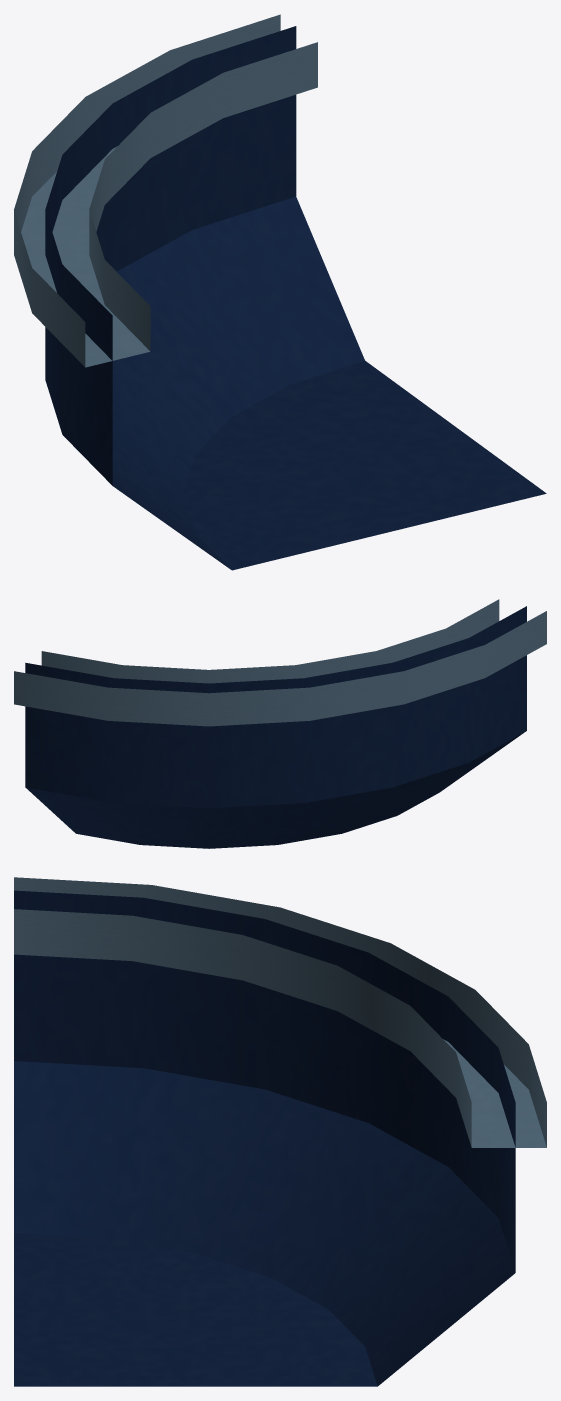
The model's file is cell_0.obj.
3 renders of one model, top to bottom at view 1: azimuth 30°, elevation 25°; view 2: azimuth 150°, elevation 25°; view 3: azimuth 270°, elevation 25°, orthographic. The views are drawn at different scales.
Visible parts, largest first — view 1: cell_0; view 2: cell_0; view 3: cell_0.
Part boxes in pixels (box(x1,y1,x2,y2)): cell_0: box(14, 14, 546, 570); cell_0: box(14, 599, 546, 848); cell_0: box(14, 877, 546, 1386).
Bounding box in the file's own units: 0.425 × 0.25 × 0.425.
